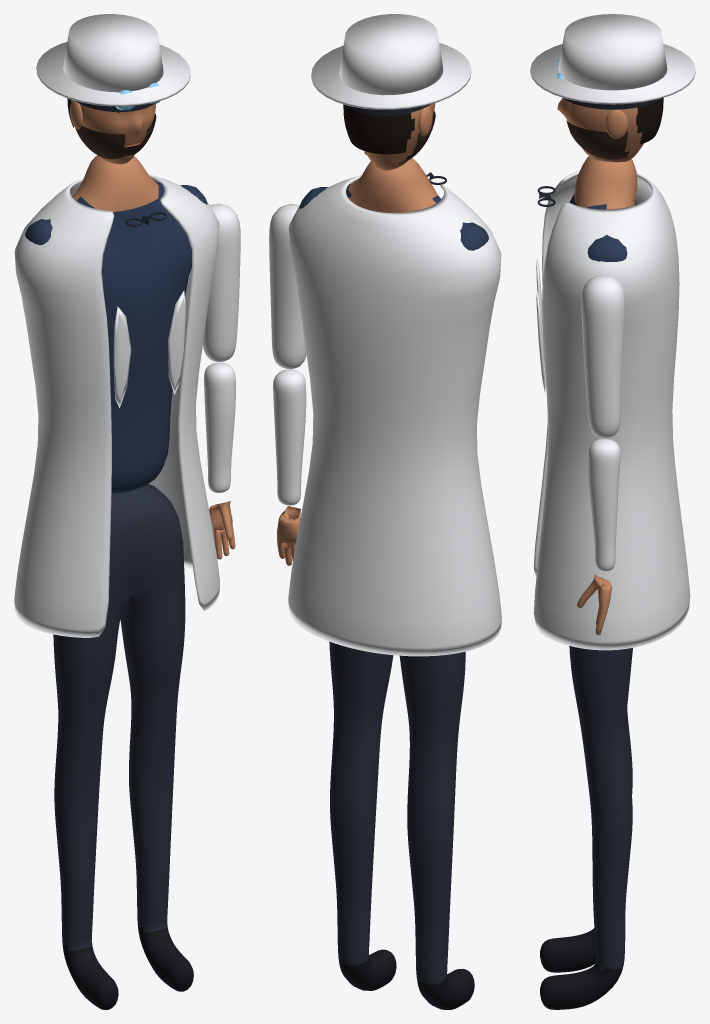
The model's file is humans.glb.
3 renders of one model, left to right at view 1: azimuth 30°, elevation 25°; view 2: azimuth 150°, elevation 25°; view 3: azimuth 270°, elevation 25°, orthographic. The views are drawn at different scales.
Visible parts, largest first — view 1: Hum_Coat, Hum_Lower, Hum_Torso, Hum_Hat, Hum_ArmUpper, Hum_ArmFore, Hum_Head, Hum_Stubble, Hum_Hand; view 2: Hum_Coat, Hum_Lower, Hum_Hat, Hum_Torso, Hum_ArmUpper, Hum_ArmFore, Hum_Hair_Slick, Hum_Head, Hum_Hand; view 3: Hum_Coat, Hum_Lower, Hum_Hat, Hum_ArmUpper, Hum_Torso, Hum_ArmFore, Hum_Head, Hum_Stubble, Hum_Hand, Hum_Hair_Slick, Hum_Goggles_Strap.
Boxes of the visible parts, left/top/right/bottom form: Hum_Coat: left=14, top=174, right=219, bottom=637; Hum_Lower: left=53, top=484, right=193, bottom=1009; Hum_Torso: left=25, top=155, right=207, bottom=493; Hum_Hat: left=36, top=14, right=190, bottom=106; Hum_ArmUpper: left=203, top=203, right=240, bottom=362; Hum_ArmFore: left=204, top=362, right=235, bottom=492; Hum_Head: left=70, top=100, right=155, bottom=164; Hum_Stubble: left=75, top=113, right=156, bottom=159; Hum_Hand: left=209, top=501, right=235, bottom=559; Hum_Coat: left=288, top=175, right=501, bottom=656; Hum_Lower: left=329, top=641, right=474, bottom=1009; Hum_Hat: left=311, top=14, right=471, bottom=109; Hum_Torso: left=299, top=158, right=488, bottom=250; Hum_ArmUpper: left=269, top=203, right=306, bottom=369; Hum_ArmFore: left=273, top=369, right=306, bottom=505; Hum_Hair_Slick: left=343, top=104, right=414, bottom=154; Hum_Head: left=364, top=103, right=435, bottom=170; Hum_Hand: left=277, top=506, right=301, bottom=565; Hum_Coat: left=533, top=171, right=690, bottom=650; Hum_Lower: left=540, top=646, right=632, bottom=1009; Hum_Hat: left=530, top=14, right=695, bottom=104; Hum_ArmUpper: left=581, top=275, right=625, bottom=438; Hum_Torso: left=569, top=156, right=637, bottom=261; Hum_ArmFore: left=588, top=438, right=620, bottom=571; Hum_Head: left=557, top=98, right=643, bottom=162; Hum_Stubble: left=566, top=120, right=629, bottom=159; Hum_Hand: left=577, top=574, right=611, bottom=635; Hum_Hair_Slick: left=636, top=97, right=663, bottom=144; Hum_Goggles_Strap: left=564, top=98, right=661, bottom=109.
Size of the model in its own units: 0.6587 by 2.76 by 0.432.
